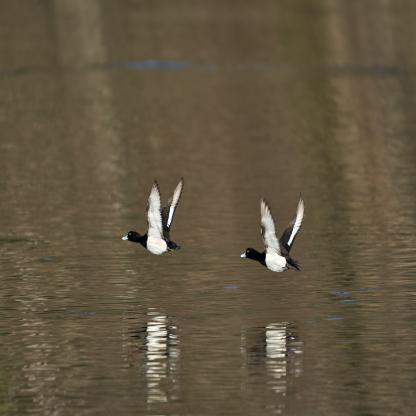bird: (240, 193, 306, 272), (123, 176, 184, 255)
